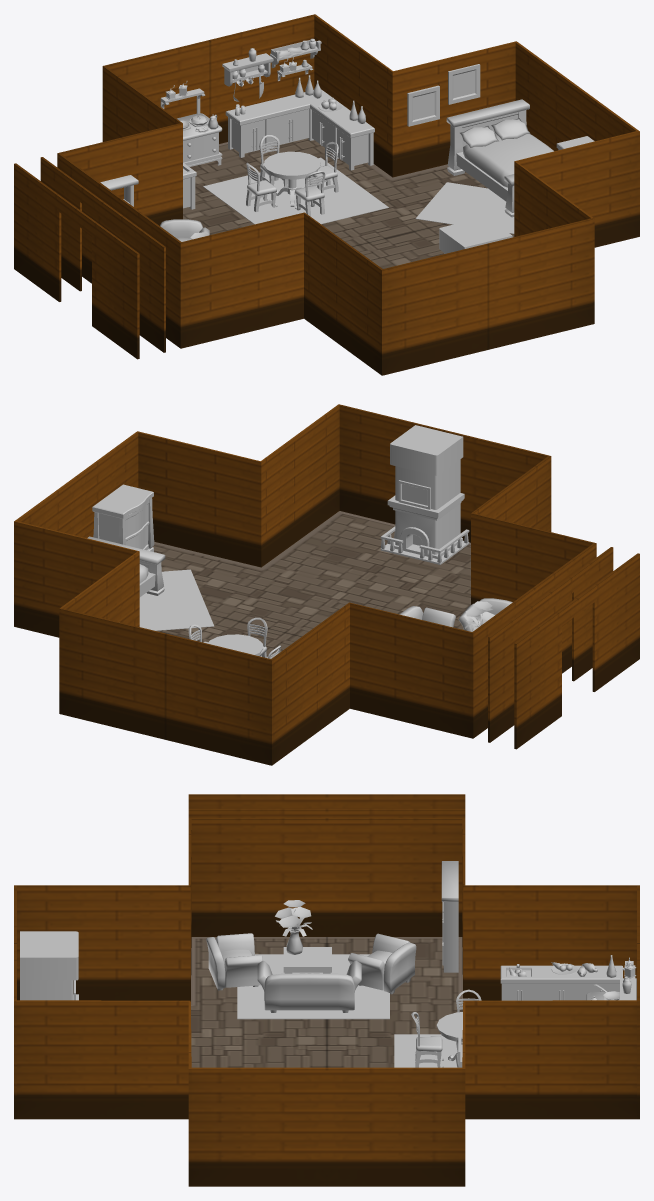
File: Room_05_F.FBX
The picture shows the model from 3 angles, top to bottom: view 1: azimuth 30°, elevation 25°; view 2: azimuth 150°, elevation 25°; view 3: azimuth 270°, elevation 25°; orthographic projection. The views are drawn at different scales.
Visible parts, largest first — view 1: Room5_Wall8, Room5_Wall5, Room5_Wall3, Room5_Floor, Room5_Wall7, Wall_Door_05_single, Room5_Wall1, Room5_Wall2, Kitchen_Cabinet_006, Wall_Door_05_double, Room5_Wall6, Bed006 (+12 smaller); view 2: Room5_Wall1, Room5_Floor, Room5_Wall2, Room5_Wall7, Room5_Wall3, Wall_Door_05_single, Room5_Wall8, Room5_Wall5, FirePlace_007, Wall_Door_05_double, Room5_Wall6, Room5_Wall4 (+7 smaller); view 3: Room5_Wall6, Room5_Wall4, Room5_Wall3, Room5_Wall7, Room5_Floor, Room5_Wall5, Room5_Wall2, Wall_Door_05_single, Kitchen_Cabinet_005, FirePlace_007, Sofa_009, Carpet_008 (+11 smaller).
Boxes of the visible parts, box(x1,y1,x2,y2) form: Room5_Wall8: box(380, 218, 594, 375); Room5_Wall5: box(179, 212, 384, 375); Room5_Wall3: box(314, 15, 517, 177); Room5_Floor: box(183, 138, 514, 268); Room5_Wall7: box(514, 131, 639, 324); Wall_Door_05_single: box(14, 163, 139, 359); Room5_Wall1: box(102, 14, 315, 143); Room5_Wall2: box(57, 65, 182, 225); Kitchen_Cabinet_006: box(225, 75, 374, 170); Wall_Door_05_double: box(40, 157, 165, 352); Room5_Wall6: box(515, 42, 639, 236); Bed006: box(446, 99, 553, 217); Room5_Wall1: box(59, 608, 273, 765); Room5_Floor: box(152, 511, 470, 656); Room5_Wall2: box(269, 602, 474, 765); Room5_Wall7: box(136, 404, 339, 567); Room5_Wall3: box(14, 521, 139, 713); Wall_Door_05_single: box(514, 553, 639, 749); Room5_Wall8: box(338, 404, 551, 542); Room5_Wall5: box(471, 455, 596, 604); FirePlace_007: box(380, 425, 469, 564); Wall_Door_05_double: box(488, 547, 613, 742); Room5_Wall6: box(14, 431, 138, 625); Room5_Wall4: box(471, 543, 595, 738); Room5_Wall6: box(188, 1067, 465, 1186); Room5_Wall4: box(190, 818, 462, 936); Room5_Wall3: box(462, 1000, 639, 1186); Room5_Wall7: box(14, 1000, 191, 1186); Room5_Floor: box(191, 937, 462, 1067); Room5_Wall5: box(14, 818, 191, 1001); Room5_Wall2: box(462, 818, 639, 1001); Wall_Door_05_single: box(188, 794, 465, 808); Kitchen_Cabinet_005: box(500, 955, 622, 1000); FirePlace_007: box(20, 931, 78, 1000); Sofa_009: box(257, 960, 361, 1012); Carpet_008: box(237, 954, 389, 1019).
Bounding box in the file's own units: 457 × 92.56 × 440.
